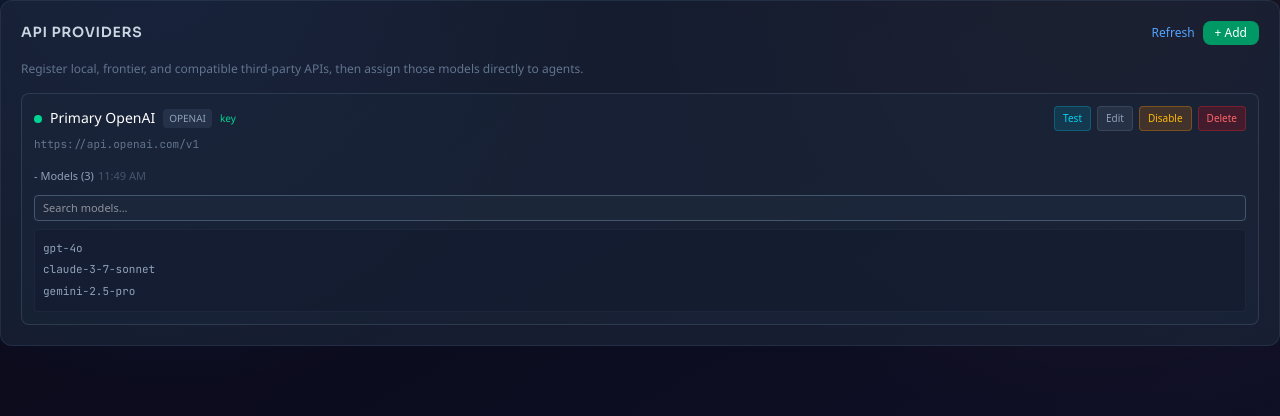
Scenario: ApiSettingsTab › filters expanded model lists by search query
This screenshot has width=1280, height=416.
Type "claude" into the field labelled "Search models" at (640, 208), box [34,194,1246,221]
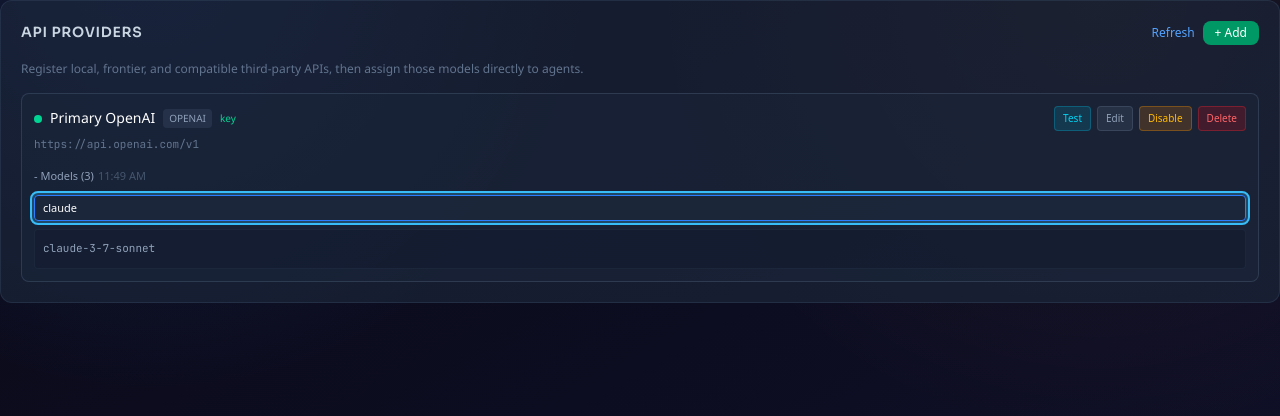
Check: the text "claude-3-7-sonnet" is shown, box [43,240,155,257]
Check: the text "gpt-4o" is gone
Check: the text "gemini-2.5-pro" is gone
